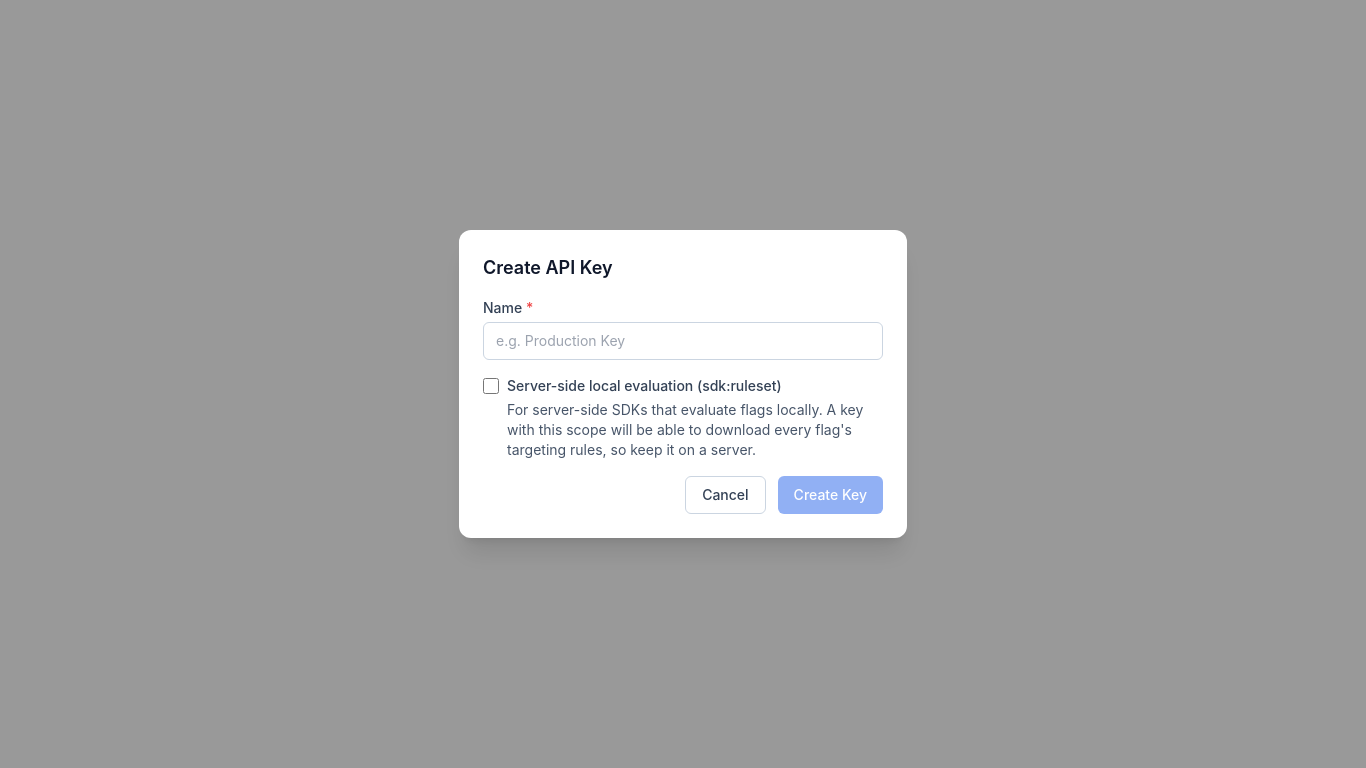
CreateApiKeyModal › shows created key value (masked to first 8 chars + "...") after creation
Type "Test Key" into the field with test id "api-key-name-input". click: (683, 341)
box: [483,322,883,360]
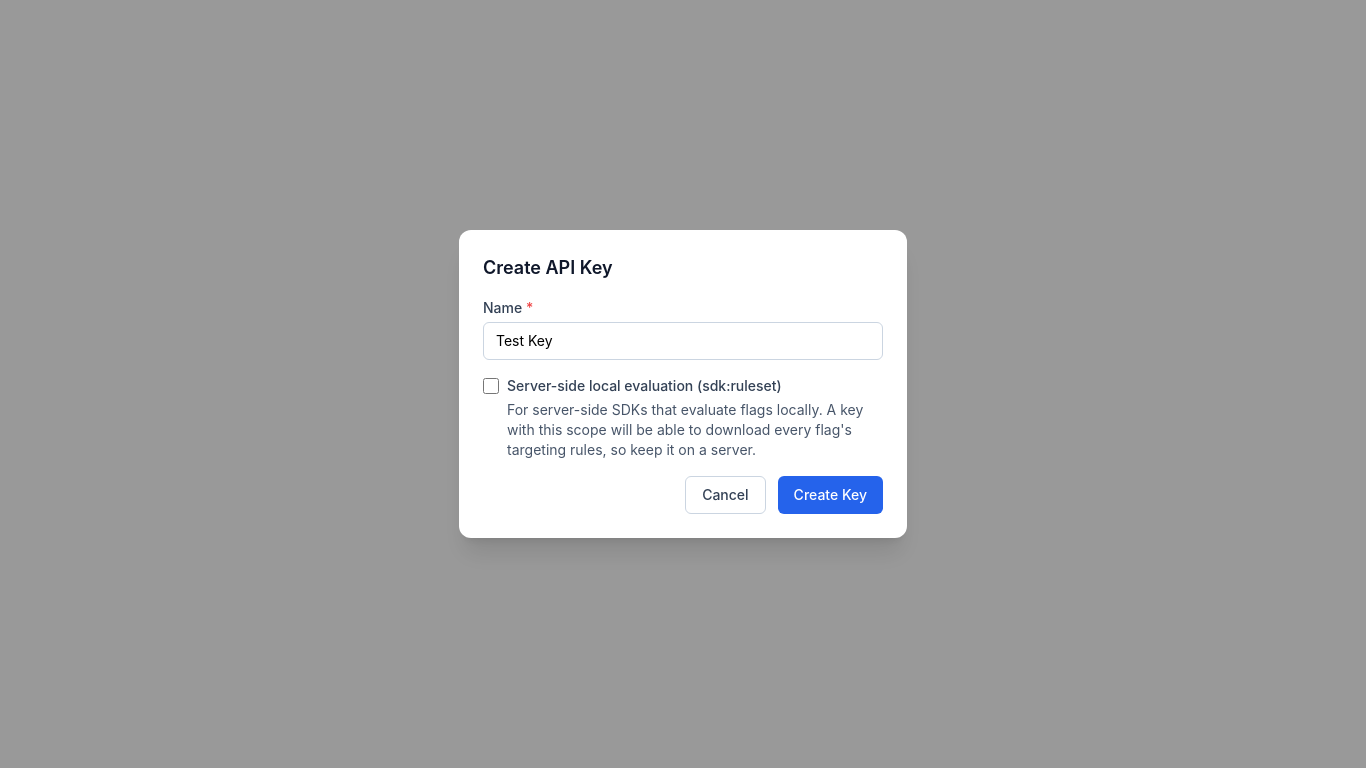
Click the button with test id "create-api-key-submit". click: (830, 495)
box: [778,476,883,514]
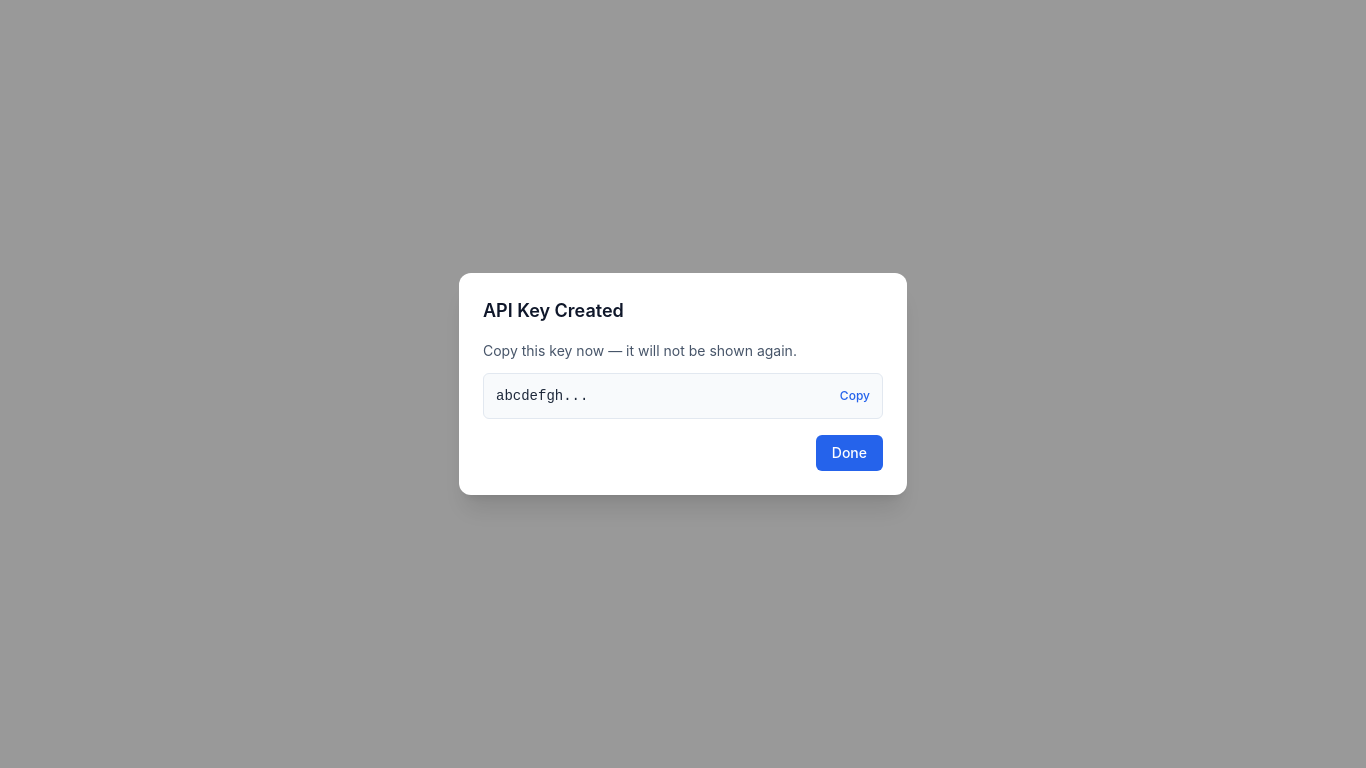
Expected: the text with test id "masked-key-value" shows "abcdefgh", [496,388,588,404]
Expected: the text with test id "masked-key-value" shows "...", [496,386,588,406]
